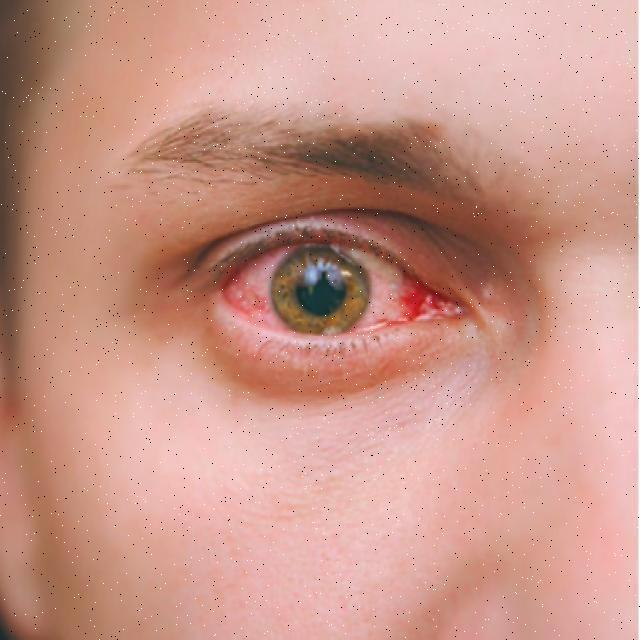Conjunctivitis: (210, 250, 468, 339)
